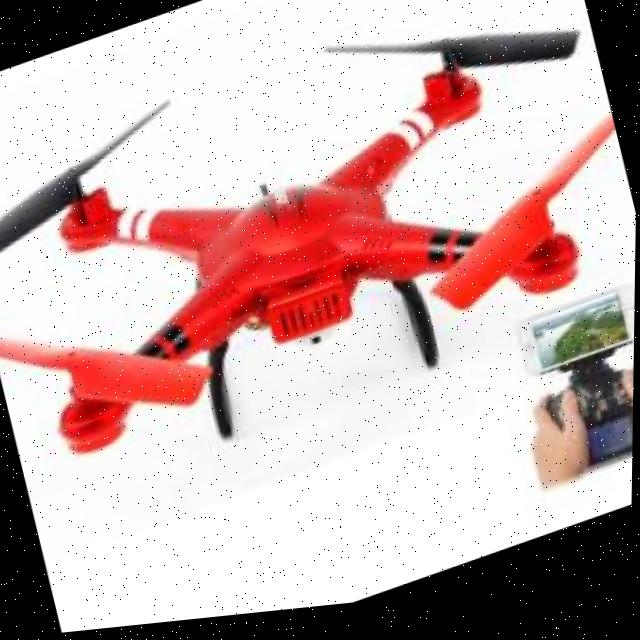drones: (0, 0, 640, 516)
